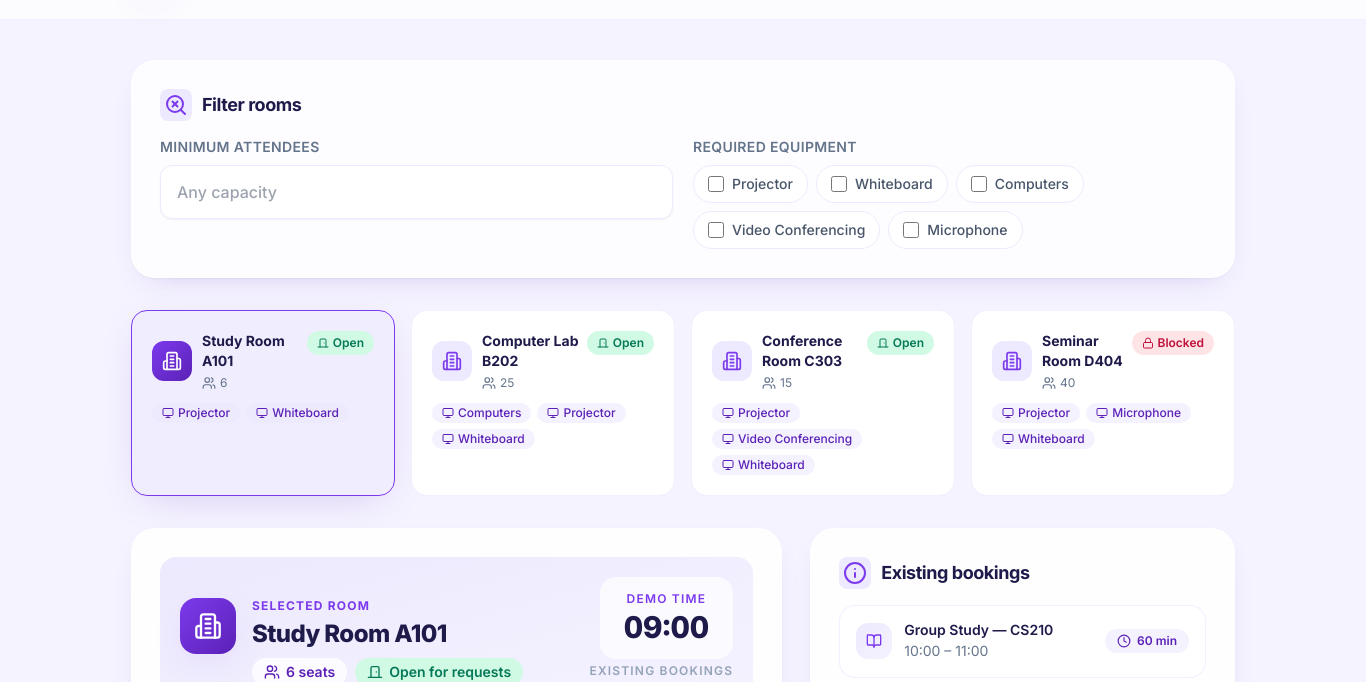
Test: F3 — blocked room UI feedback › shows unavailable feedback when checking a blocked room
Click the button "Seminar Room D404 40 Blocked Projector Microphone Whiteboard".
click(1103, 403)  # box left=971, top=310, right=1235, bottom=496
(page scrolled)
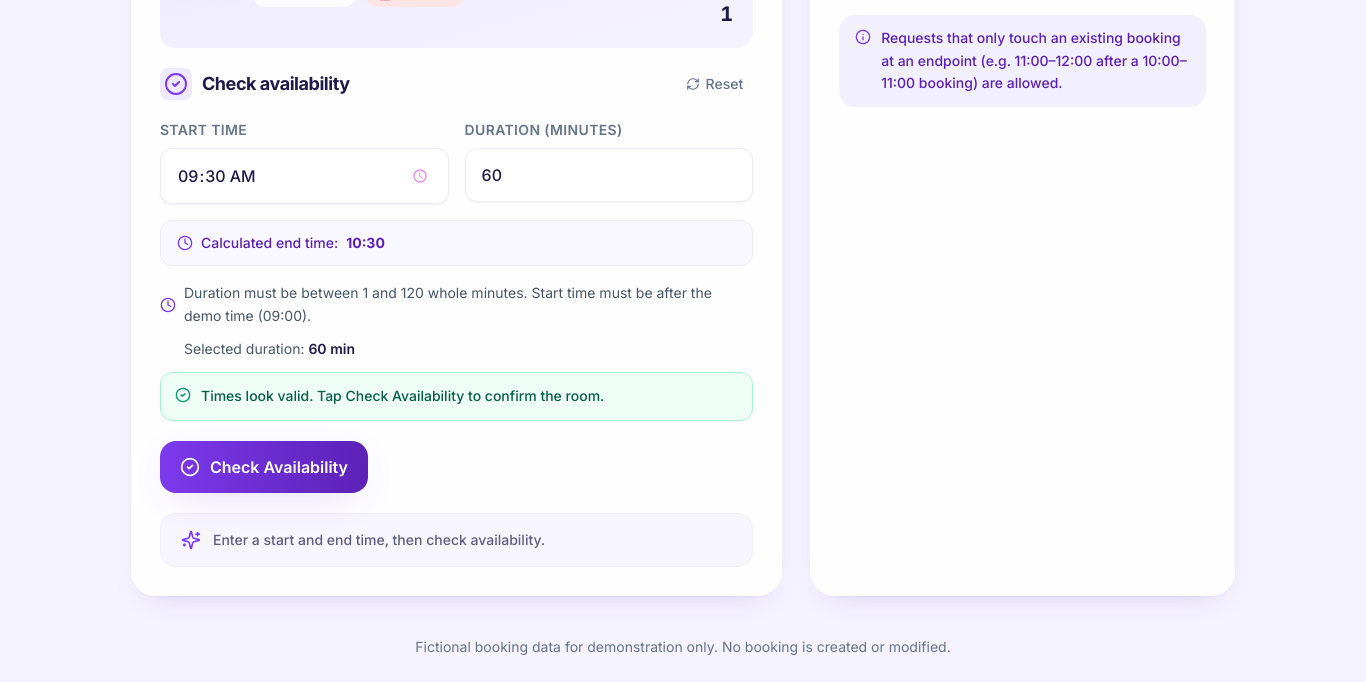
Click the button "Check Availability".
click(264, 467)  # box left=160, top=441, right=368, bottom=493
(page scrolled)
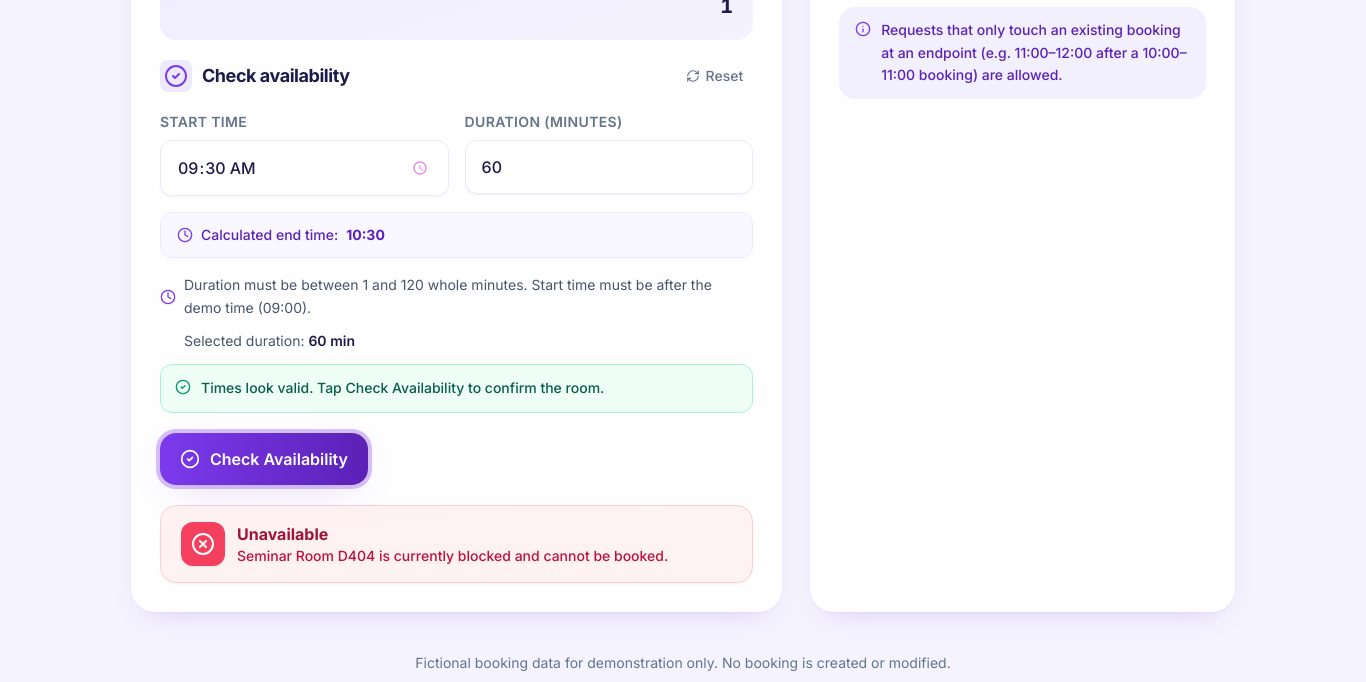
Result: the text "Unavailable" is shown at left=237, top=524, right=328, bottom=544
Result: the text "Seminar Room D404 is currently blocked and cannot be booked." is shown at left=237, top=546, right=668, bottom=566
